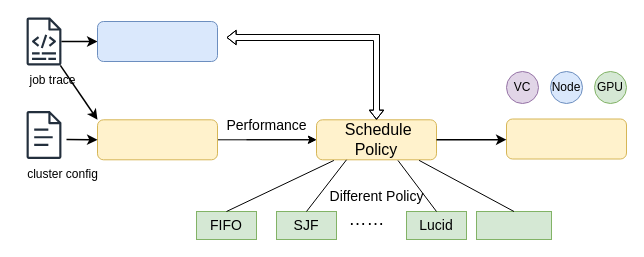
This 644x257 diagram has some shape labels left out. The shapes that lost their labels are listed below. From the top down, each one's centre as x and y in pixels, then its label:
At point 157,41: "Estimator Job Predictor".
At point 157,139: "Profiler".
At point 566,138: "Job placer".
At point 514,225: "DeepShare".
